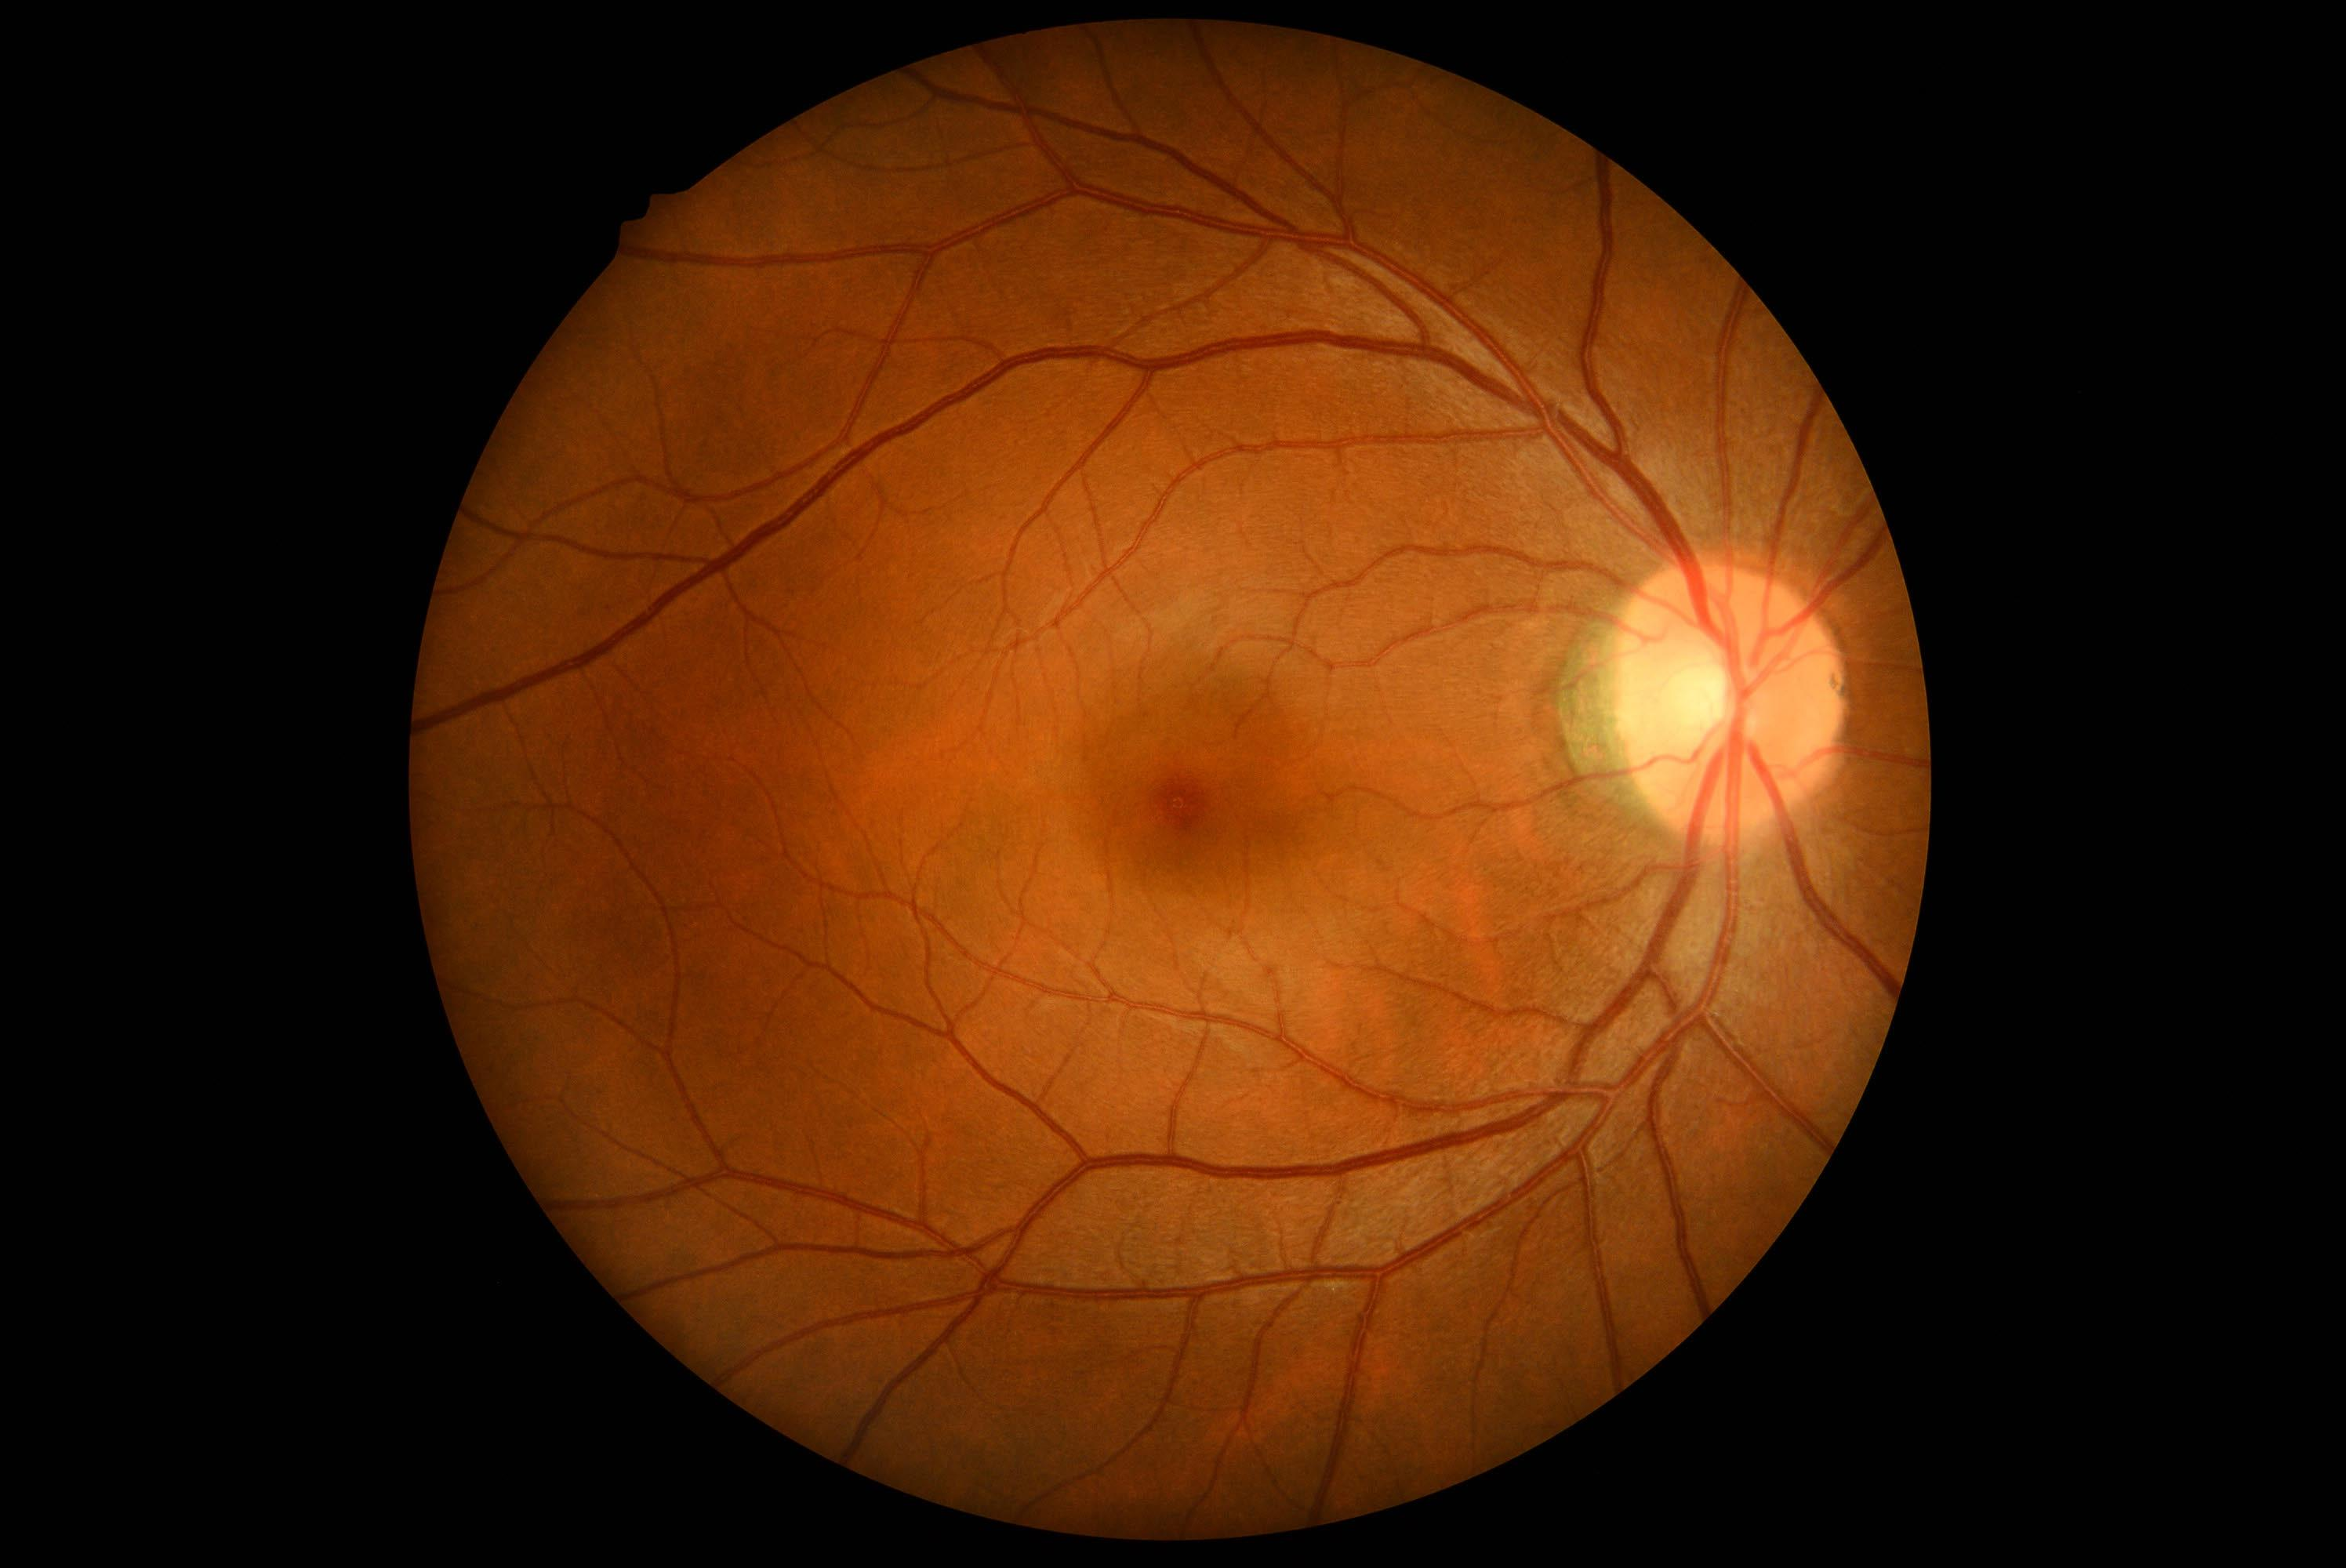Fovea: (1102, 733, 1253, 884)
